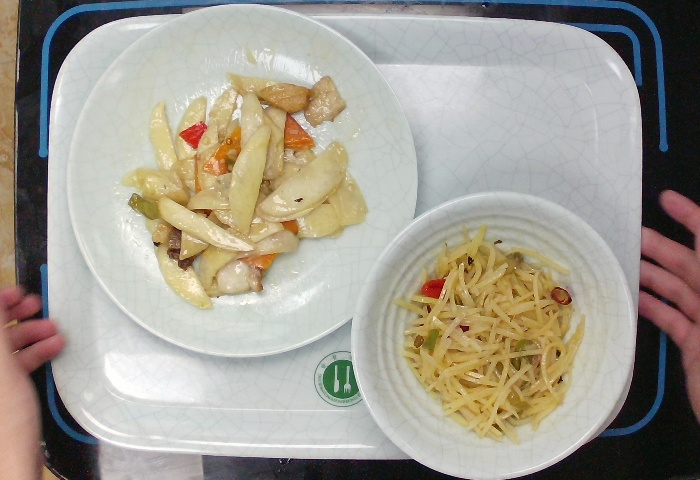JYsf-Da_Yuan_Pan: (61, 1, 422, 364)
JYsf-Xiao_Tang_Wan: (346, 187, 640, 480)
